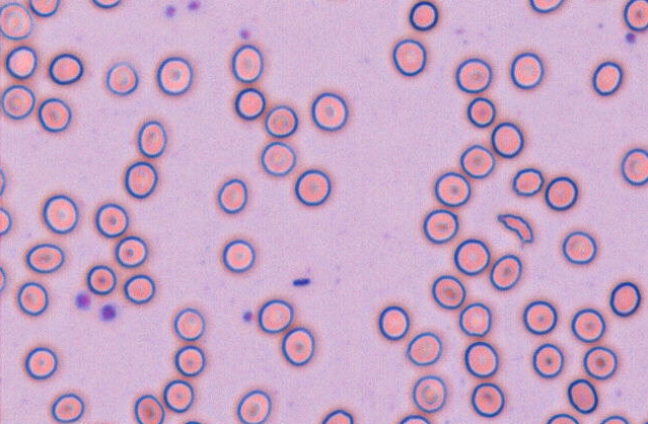PLT: (74, 292, 93, 311), (101, 303, 119, 321), (186, 0, 205, 11), (237, 25, 250, 41), (165, 6, 178, 19), (625, 31, 637, 44), (242, 310, 253, 323)
RBC: (310, 91, 348, 131), (156, 56, 193, 95), (294, 168, 331, 206), (42, 194, 78, 233), (453, 238, 490, 275), (455, 57, 492, 93), (412, 374, 446, 413), (281, 326, 314, 366), (434, 171, 470, 207), (464, 341, 499, 378), (257, 298, 294, 333), (124, 160, 158, 198), (392, 38, 426, 76), (231, 43, 263, 83), (406, 331, 442, 366), (260, 141, 296, 176), (422, 208, 458, 243), (510, 51, 543, 89), (470, 382, 505, 417), (582, 345, 617, 380), (0, 84, 35, 119), (459, 144, 495, 178), (491, 121, 524, 158), (0, 2, 32, 40), (25, 242, 64, 273), (236, 389, 271, 423), (571, 307, 605, 342), (431, 274, 465, 309), (562, 230, 597, 264), (489, 254, 522, 290), (523, 300, 557, 334), (544, 176, 578, 210), (264, 104, 298, 138), (458, 302, 491, 337), (95, 202, 128, 237), (38, 97, 71, 132), (532, 342, 564, 378), (609, 281, 641, 317), (137, 120, 167, 158), (105, 61, 138, 95), (222, 238, 255, 272), (567, 378, 598, 414), (24, 346, 57, 379), (173, 307, 205, 341), (5, 45, 37, 79), (17, 281, 48, 316), (378, 305, 409, 340), (48, 53, 83, 84), (217, 178, 247, 214), (163, 379, 194, 413), (592, 61, 622, 96), (115, 235, 147, 267), (234, 87, 265, 120), (50, 392, 84, 422), (621, 148, 648, 185), (174, 345, 205, 376), (123, 274, 155, 304), (86, 264, 116, 295), (512, 167, 544, 196), (408, 0, 438, 30), (466, 96, 495, 127), (134, 394, 164, 423), (623, 0, 648, 31), (321, 408, 353, 423), (29, 0, 59, 16), (529, 0, 564, 13), (545, 413, 579, 423), (0, 206, 11, 235), (398, 414, 430, 423), (90, 0, 121, 8), (599, 415, 629, 423), (0, 264, 6, 292), (0, 167, 5, 196)
Schistocyte: (497, 211, 535, 247)
